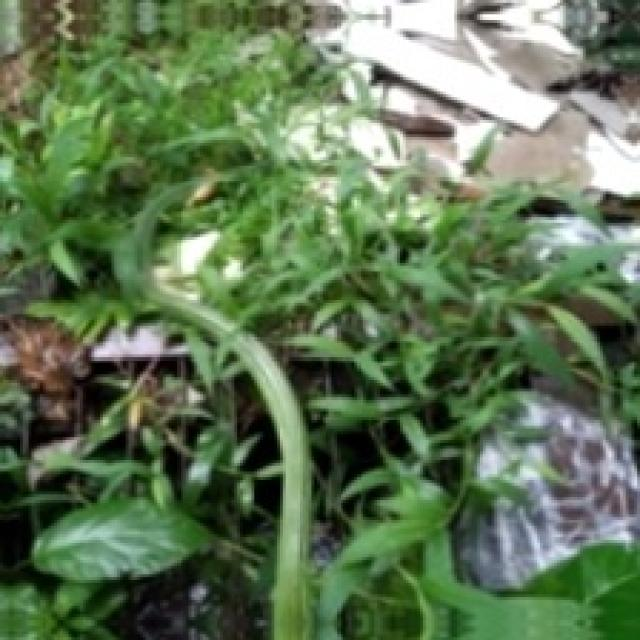red-tailed green ratsnake: (114, 237, 309, 637)
